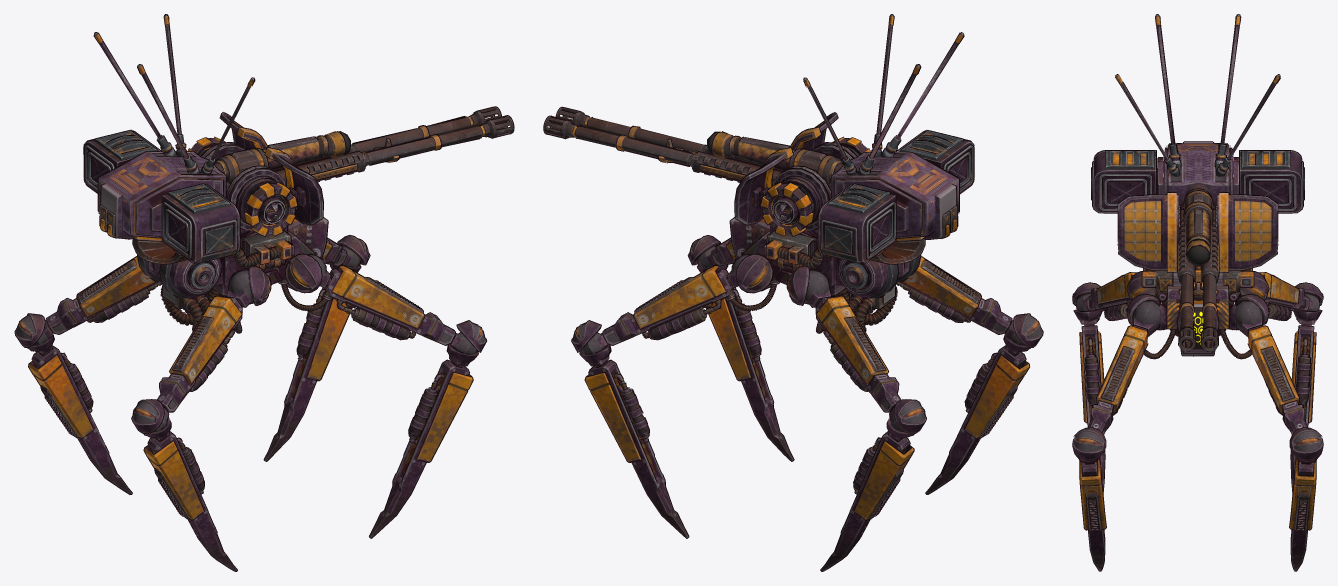
The model's file is walking_robot_gun.glb.
3 views of the same model, side by side, from view 1: azimuth 30°, elevation 25°; view 2: azimuth 150°, elevation 25°; view 3: azimuth 270°, elevation 25° (orthographic). The views are drawn at different scales.
Visible parts, largest first — view 1: Legs, Ammo., Gun, Cell_Cell_0.001, Cell, Body, Wires; view 2: Legs, Ammo., Gun, Cell_Cell_0.001, Body, Cell, Wires; view 3: Legs, Ammo., Gun, Cell_Cell_0.001, Cell, Body, Wires.
Part boxes in pixels (x1,y1,x2,y2): Legs: (15, 235, 486, 570); Ammo.: (84, 112, 322, 263); Gun: (98, 107, 513, 238); Cell_Cell_0.001: (14, 15, 514, 494); Cell: (32, 14, 512, 571); Body: (94, 15, 327, 308); Wires: (161, 247, 332, 332); Legs: (572, 236, 1042, 570); Ammo.: (735, 112, 973, 263); Gun: (544, 107, 958, 239); Cell_Cell_0.001: (543, 25, 1029, 571); Body: (730, 15, 963, 308); Cell: (559, 14, 1043, 569); Wires: (725, 247, 896, 332); Legs: (1073, 271, 1322, 570); Ammo.: (1091, 150, 1304, 271); Gun: (1158, 142, 1238, 351); Cell_Cell_0.001: (1080, 14, 1323, 571); Cell: (1072, 14, 1314, 571); Body: (1116, 15, 1279, 355); Wires: (1144, 269, 1251, 358).
Bounding box in the file's own units: 128 × 143 × 69.97.
Materials: 8 (7 with a texture image).
